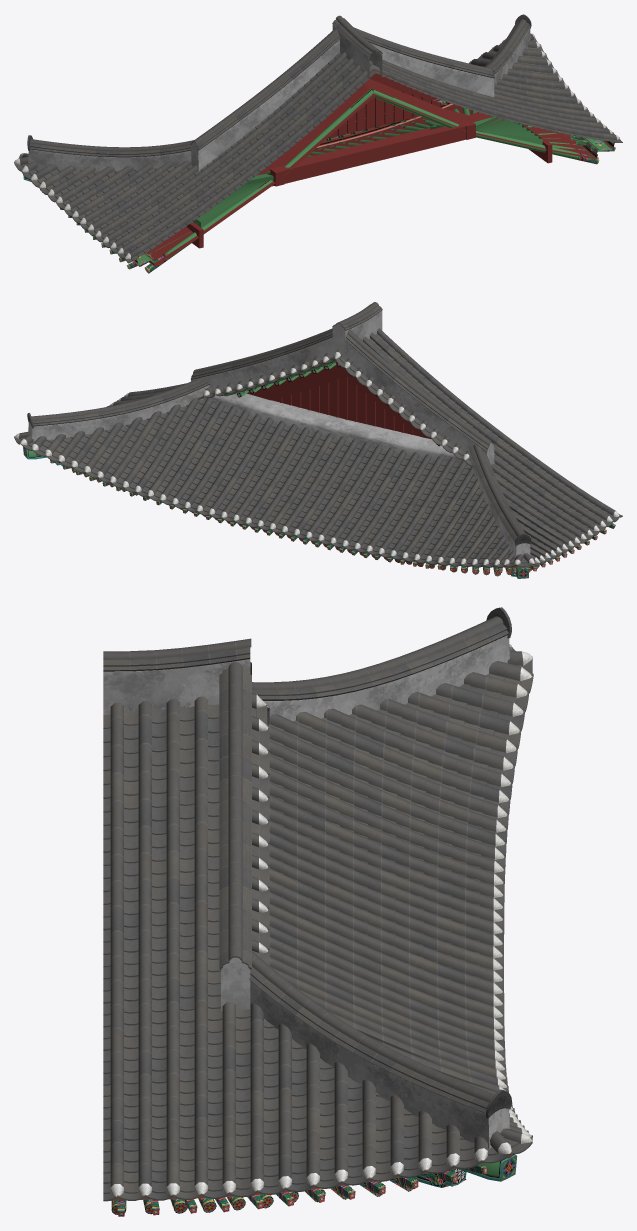
File: SM_Castle_Roof04b.fbx
3 renders of one model, top to bottom at view 1: azimuth 30°, elevation 25°; view 2: azimuth 150°, elevation 25°; view 3: azimuth 270°, elevation 25°, orthographic. The views are drawn at different scales.
Visible parts, largest first — view 1: SM_Castle_Roof04b; view 2: SM_Castle_Roof04b; view 3: SM_Castle_Roof04b.
Part boxes in pixels (<box>): SM_Castle_Roof04b: <box>14,14,622,273</box>; SM_Castle_Roof04b: <box>14,302,622,578</box>; SM_Castle_Roof04b: <box>103,607,533,1216</box>.
Size of the model in its own units: 1287 by 461 by 427.
2 materials, 2 textured.
